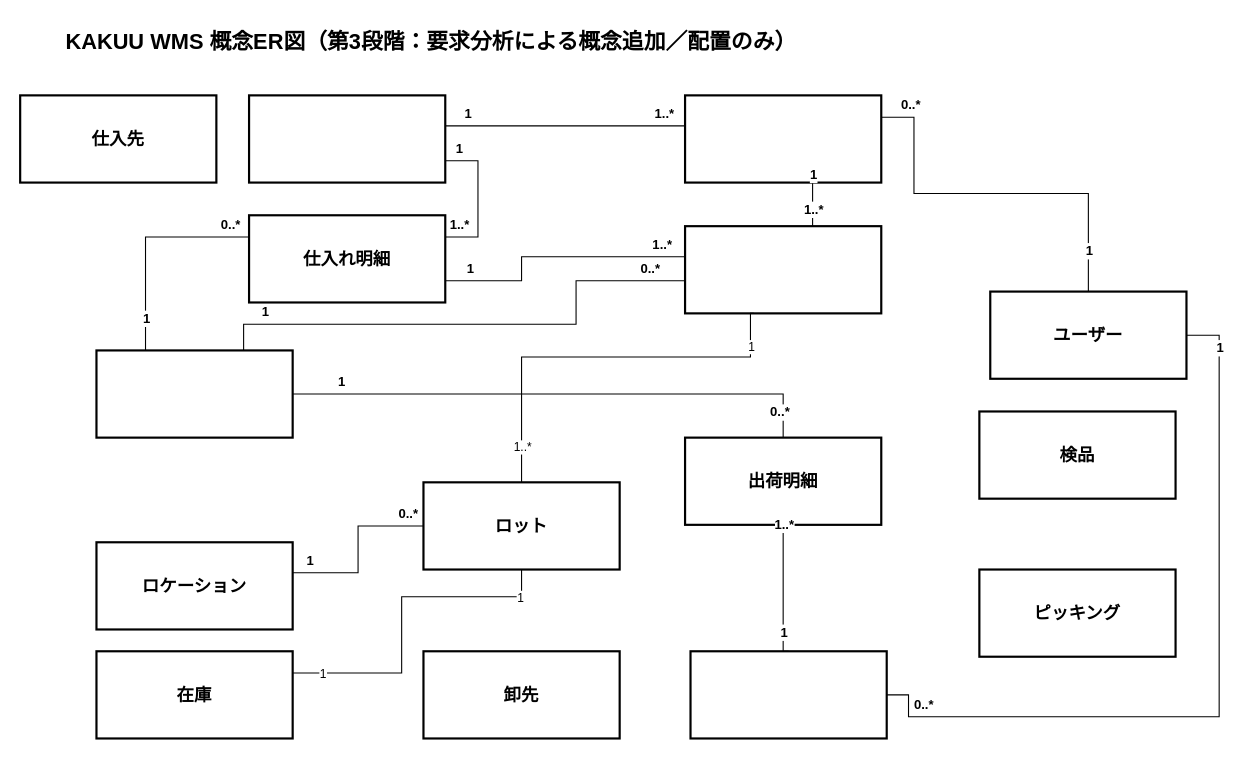
The diagram is 1242 pixels wide and 758 high, and some of its shapes have lost their labels. Here are the shapes that lost their labels. From the top down, the centre of each, then its label:
At [346,138]: "仕入れ".
At [782,138]: "入荷".
At [782,269]: "入荷明細".
At [194,393]: "商品".
At [788,694]: "出荷".
